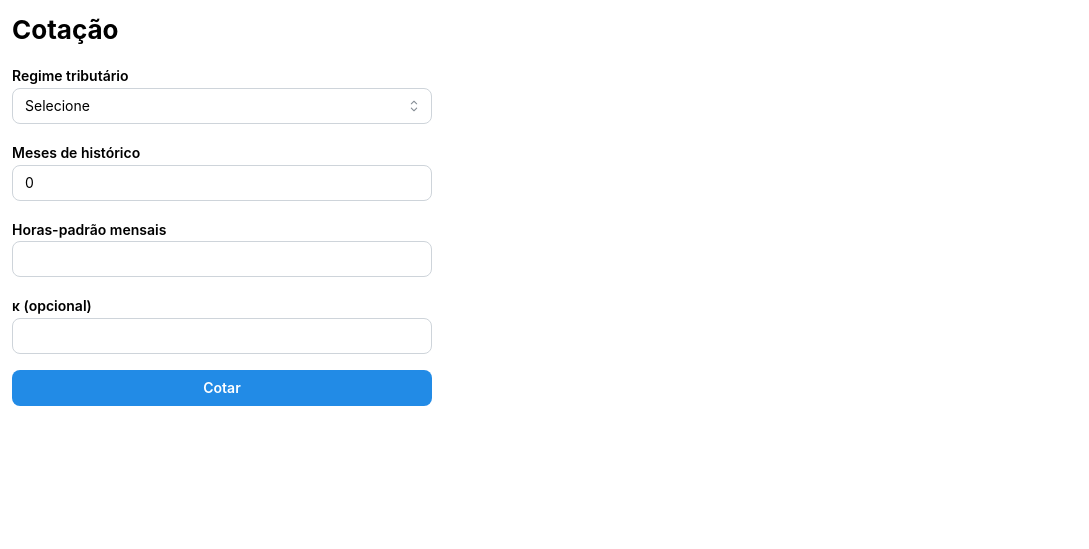
Scenario: cotação › histórico parcial mostra credibilidade, base própria e piso
Select "Lucro Presumido" in the dropdown labelled "Regime tributário" at (222, 106), box [12, 88, 432, 124]
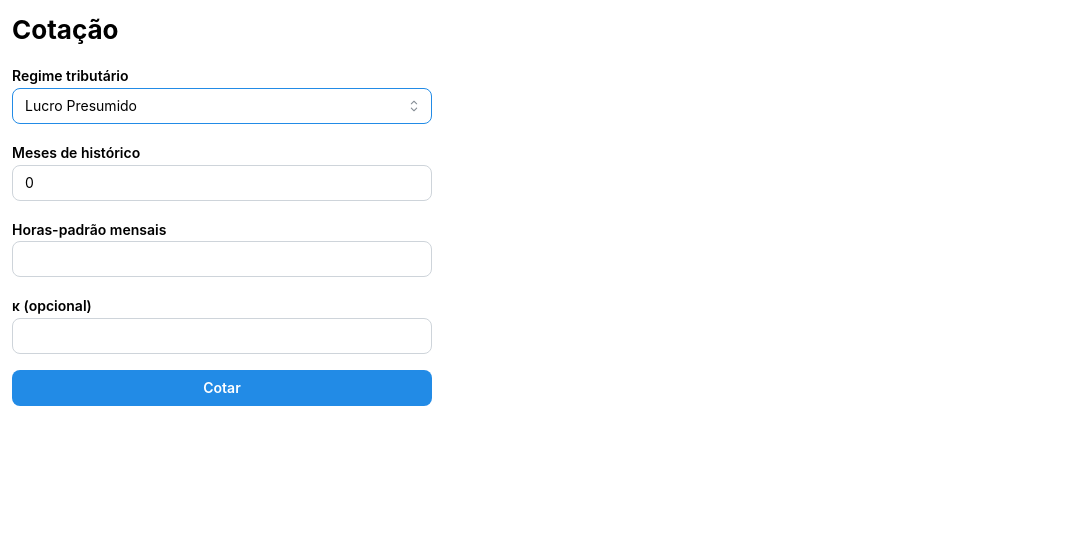
Replace the text in the field labelled "Meses de histórico" with "4" at (222, 183), box [12, 165, 432, 201]
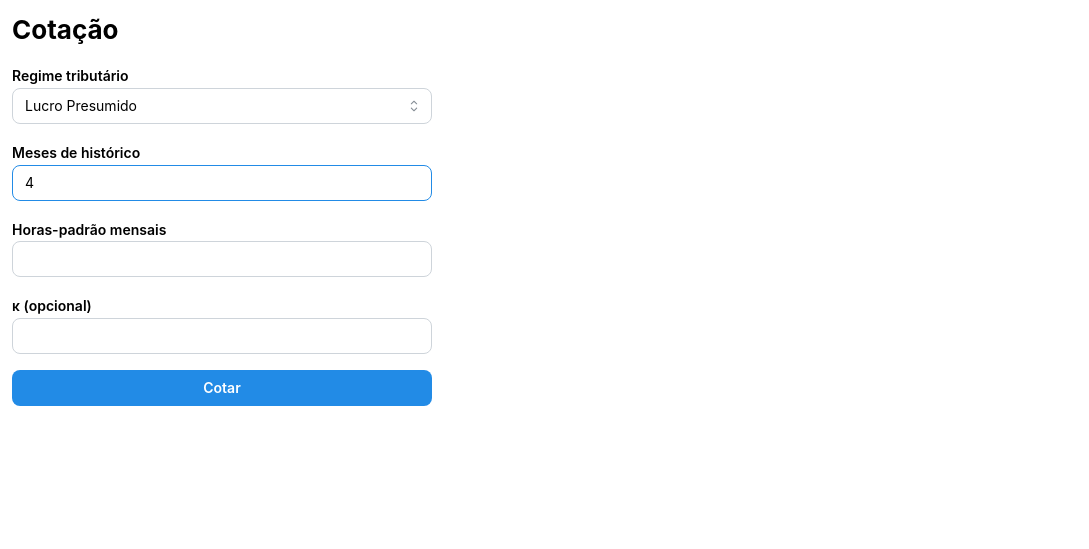
Type "3" into the field labelled "Horas-padrão mensais" at (222, 260), box [12, 242, 432, 278]
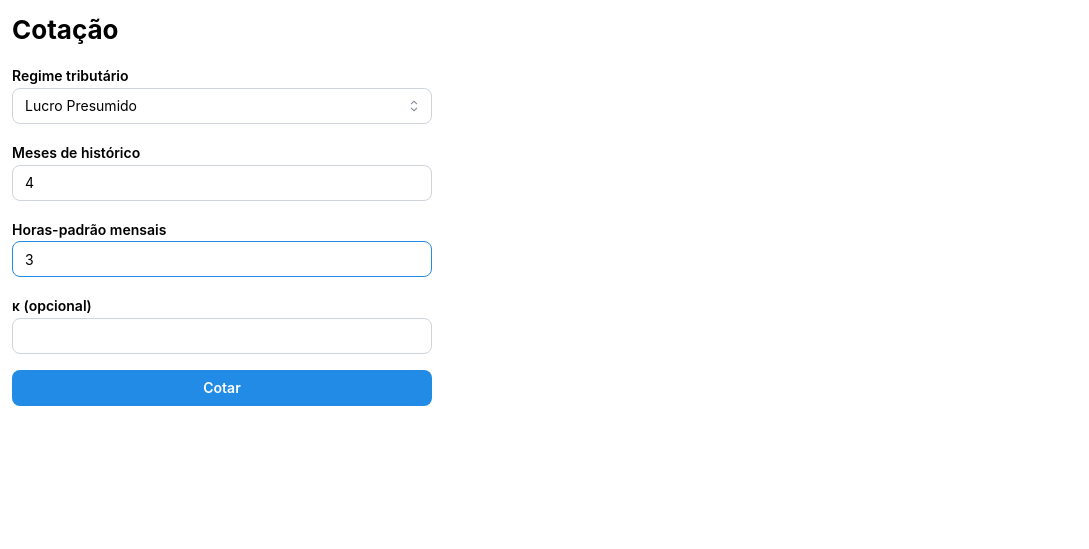
Click the button "Cotar" at (222, 388), box [12, 370, 432, 406]
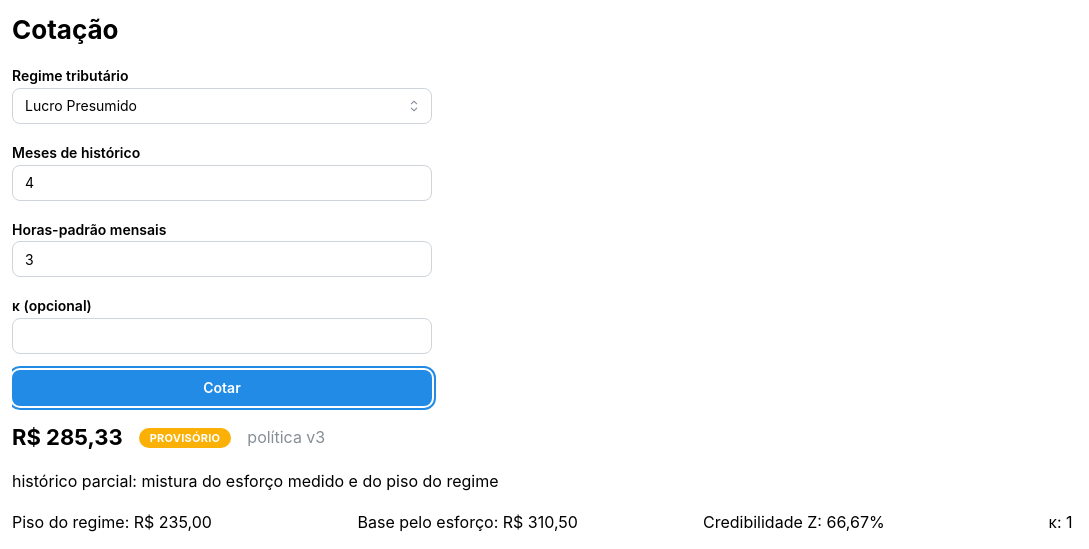
Result: the element with test id "cotacao" shows "R$ 285,33" at [12, 424, 123, 450]
Result: the element with test id "cotacao" shows "66,67%" at [826, 512, 885, 532]
Result: the element with test id "cotacao" shows "R$ 310,50" at [503, 512, 578, 532]
